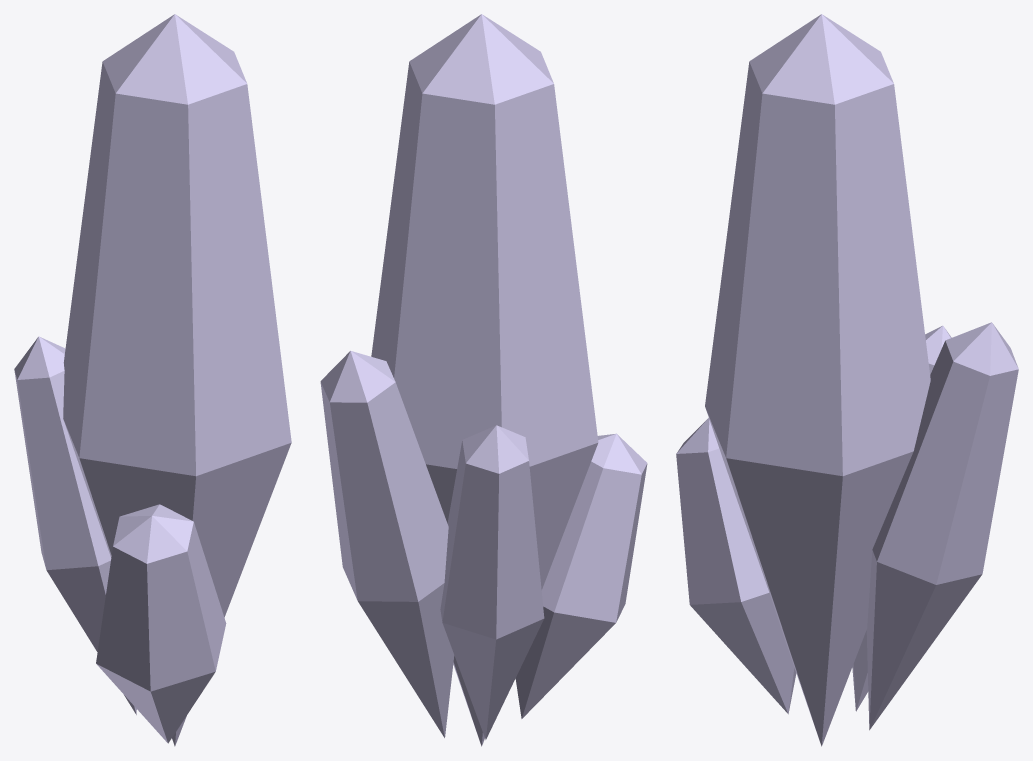
File: SkyCrystal.glb
3 renders of one model, left to right at view 1: azimuth 30°, elevation 25°; view 2: azimuth 150°, elevation 25°; view 3: azimuth 270°, elevation 25°, orthographic.
Visible parts, largest first — view 1: Crystal; view 2: Crystal; view 3: Crystal.
Boxes of the visible parts, x1,y1,x2,y2 form: Crystal: [14, 14, 291, 746]; Crystal: [320, 14, 647, 746]; Crystal: [676, 14, 1018, 746].
Bounding box in the file's own units: 4.03 × 13 × 5.51.
